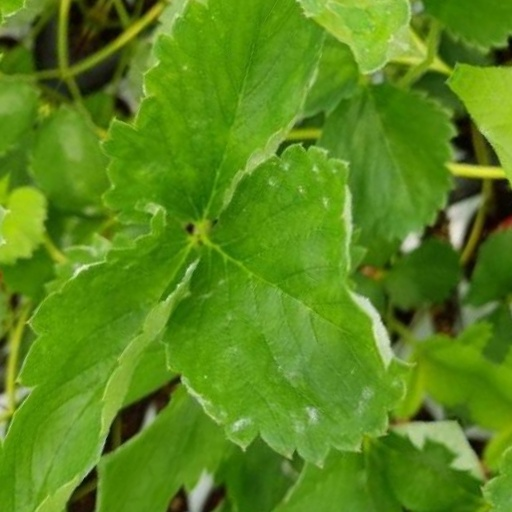Powdery Mildew Leaf: (201, 129, 459, 432), (61, 0, 226, 295), (87, 257, 220, 511), (337, 0, 511, 110)
